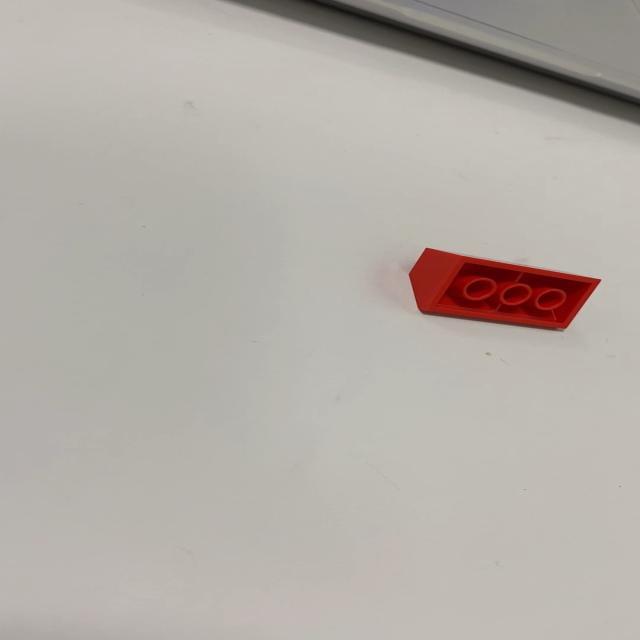P4x2x1: (406, 246, 602, 330)
